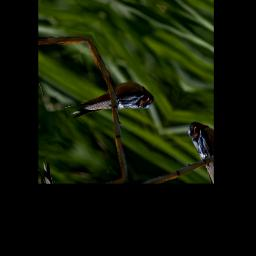Swallow: (56, 53, 158, 152)
